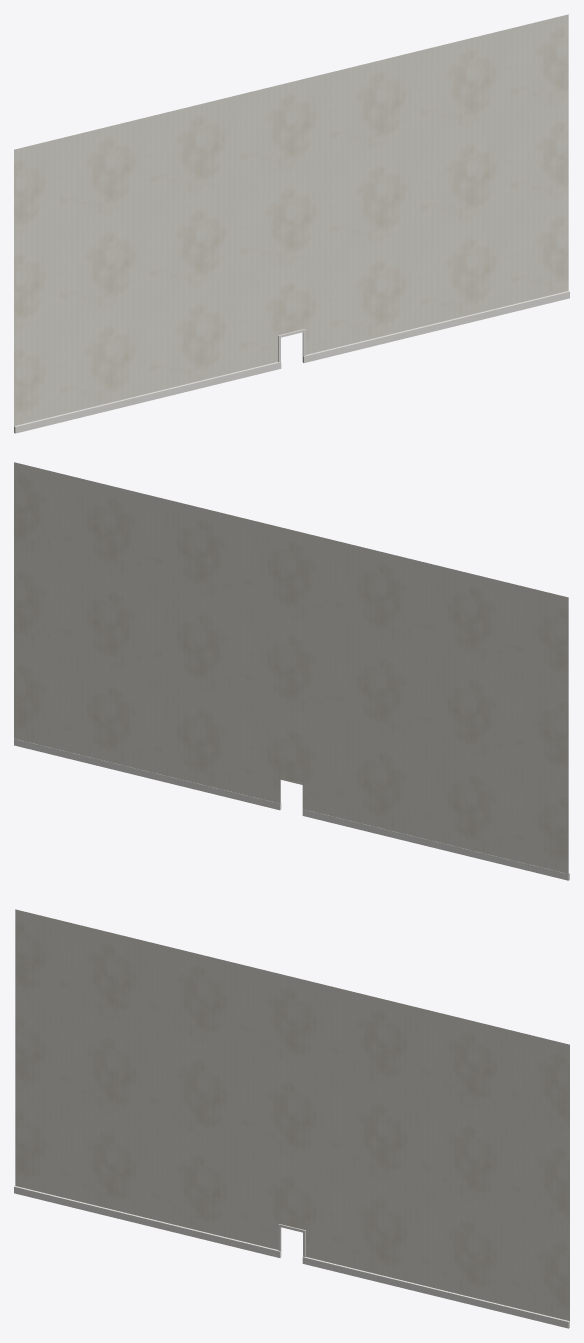
Rendered from wall_vent.gltf.
3 renders of one model, top to bottom at view 1: azimuth 30°, elevation 25°; view 2: azimuth 150°, elevation 25°; view 3: azimuth 330°, elevation 25°, orthographic.
Visible parts, largest first — view 1: jx_w_vent; view 2: jx_w_vent; view 3: jx_w_vent.
Part boxes in pixels (x1,y1,x2,y2): jx_w_vent: (14, 14, 569, 433); jx_w_vent: (14, 462, 569, 880); jx_w_vent: (14, 909, 569, 1328).
Size of the model in its own units: 12.3 by 6 by 0.05.
2 materials, 2 textured.
